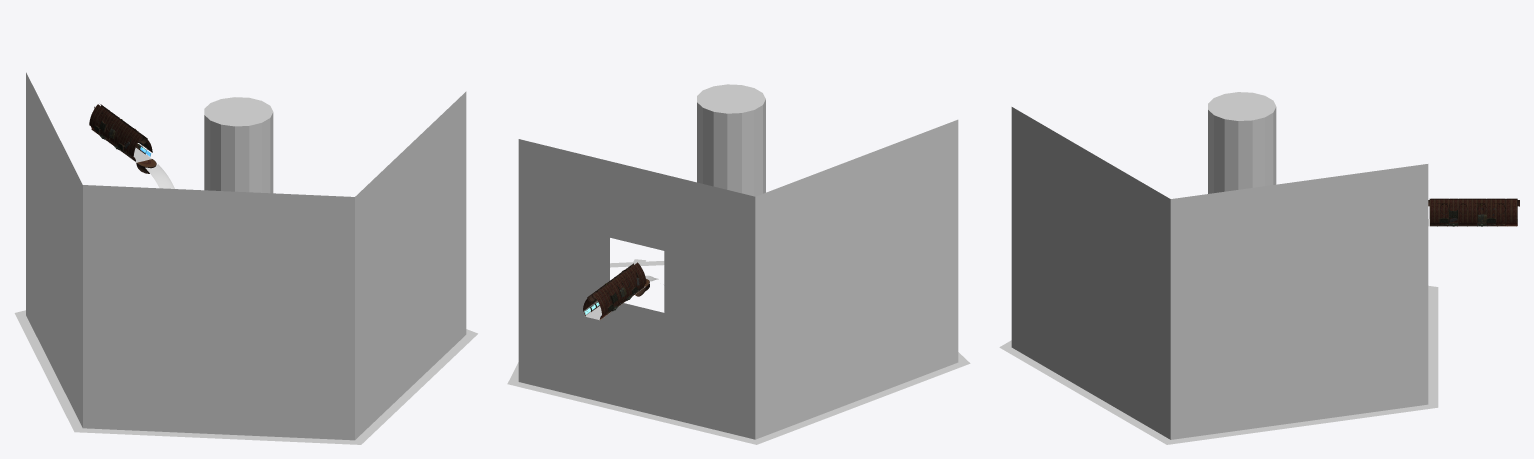
File: gmgauntlet.glb
3 renders of one model, left to right at view 1: azimuth 30°, elevation 25°; view 2: azimuth 150°, elevation 25°; view 3: azimuth 270°, elevation 25°, orthographic.
Parts seen in each view (by area): view 1: main_walls, Cylinder, tunnel-long; view 2: main_walls, Cylinder, tunnel-long; view 3: main_walls, Cylinder, tunnel-long.
Part boxes in pixels (x1,y1,x2,y2): main_walls: [14, 72, 477, 444]; Cylinder: [204, 97, 273, 193]; tunnel-long: [89, 104, 152, 161]; main_walls: [507, 119, 970, 444]; Cylinder: [697, 84, 765, 196]; tunnel-long: [583, 262, 646, 319]; main_walls: [999, 107, 1438, 444]; Cylinder: [1208, 92, 1276, 193]; tunnel-long: [1428, 198, 1519, 226].
Size of the model in its own units: 391 by 225 by 441.
68 materials, 66 textured.
